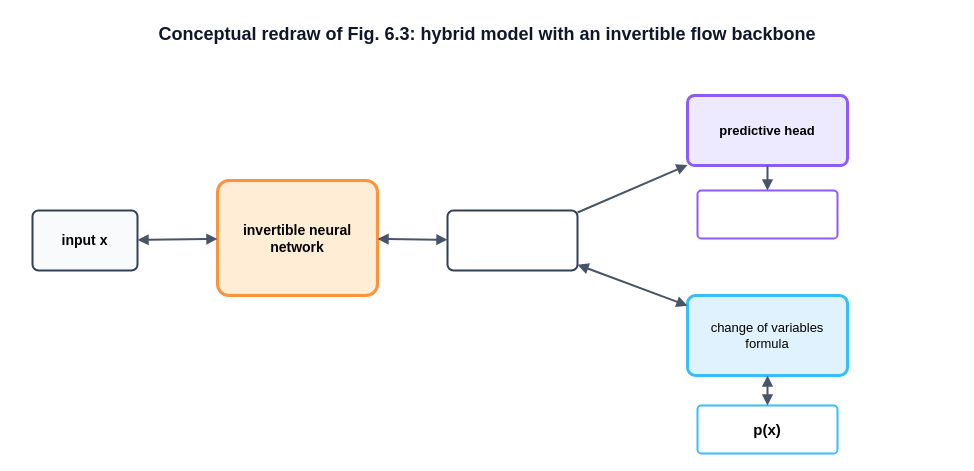
This 974x471 diagram has some shape labels left out. The shapes that lost their labels are listed below. From the top down, each one's centre as x and y in pixels, then its label:
point (767, 214): p(y | x)
point (512, 240): latent features z
